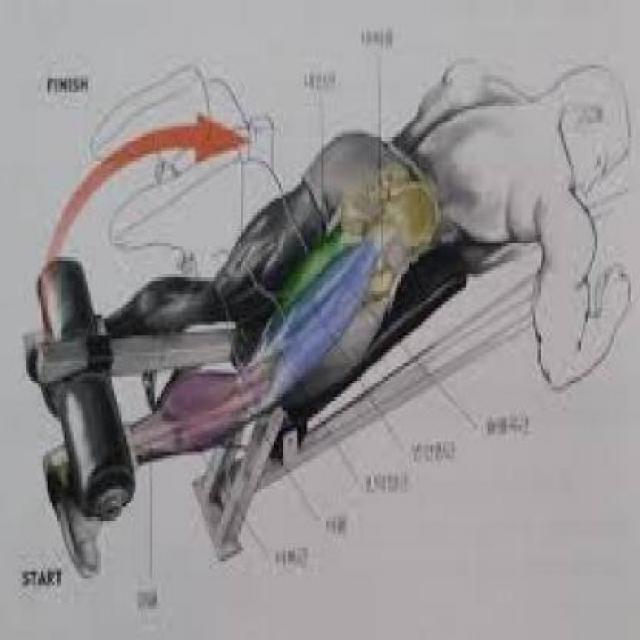reg curl machine: (23, 43, 631, 580)
